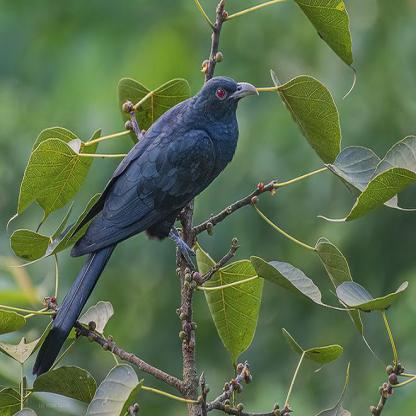Burung: (32, 76, 259, 376)
